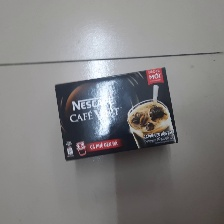CF Viet: (53, 67, 180, 163)
